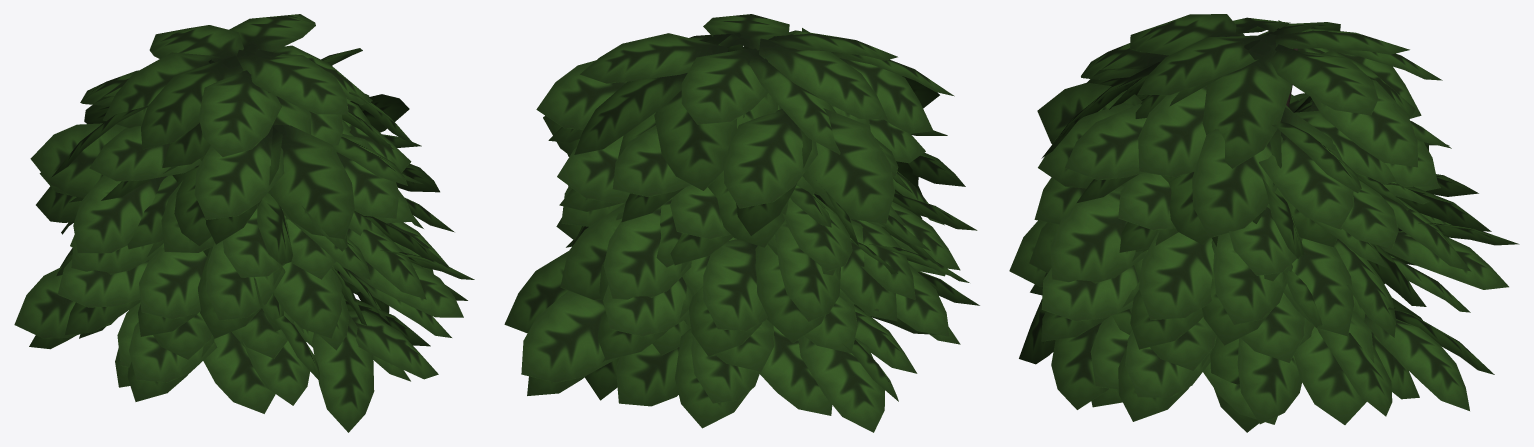
The model's file is arbusto4.fbx.
3 renders of one model, left to right at view 1: azimuth 30°, elevation 25°; view 2: azimuth 150°, elevation 25°; view 3: azimuth 270°, elevation 25°, orthographic. The views are drawn at different scales.
Parts seen in each view (by area): view 1: pPlane99, pPlane50, pPlane48, pPlane106, pPlane145, pPlane82, pPlane116, pPlane38, pPlane97, pPlane55, pPlane46, pPlane47 (+53 smaller); view 2: pPlane114, pPlane63, pPlane58, pPlane65, pPlane116, pPlane59, pPlane115, pPlane53, pPlane7, pPlane64, pPlane28, pPlane61 (+50 smaller); view 3: pPlane133, pPlane81, pPlane77, pPlane71, pPlane83, pPlane64, pPlane36, pPlane82, pPlane34, pPlane28, pPlane80, pPlane22 (+55 smaller).
Boxes of the visible parts, x1,y1,x2,y2 form: pPlane99: (269,125,354,239); pPlane50: (198,70,281,156); pPlane48: (194,125,284,219); pPlane106: (73,175,167,253); pPlane145: (312,316,374,432); pPlane82: (236,49,348,114); pPlane116: (141,56,243,149); pPlane38: (139,247,206,319); pPlane97: (273,262,341,338); pPlane55: (30,123,127,197); pPlane46: (205,241,285,320); pPlane47: (89,126,201,181); pPlane114: (802,108,894,223); pPlane63: (724,109,817,208); pPlane58: (521,290,618,382); pPlane65: (681,48,767,124); pPlane116: (759,38,887,119); pPlane59: (603,206,691,299); pPlane115: (654,90,737,190); pPlane53: (703,239,767,331); pPlane7: (798,336,884,432); pPlane64: (580,33,728,83); pPlane28: (574,73,687,154); pPlane61: (775,221,840,321); pPlane133: (1202,41,1292,168); pPlane81: (1192,129,1283,237); pPlane77: (1050,185,1146,283); pPlane71: (1138,229,1214,320); pPlane83: (1138,85,1206,177); pPlane64: (1271,44,1378,115); pPlane36: (1259,138,1353,228); pPlane82: (1137,35,1276,95); pPlane34: (1294,311,1374,424); pPlane28: (1311,79,1418,167); pPlane80: (1065,104,1146,180); pPlane22: (1364,314,1469,410).
Bounding box in the file's own units: 3.43 × 2.67 × 3.61.
